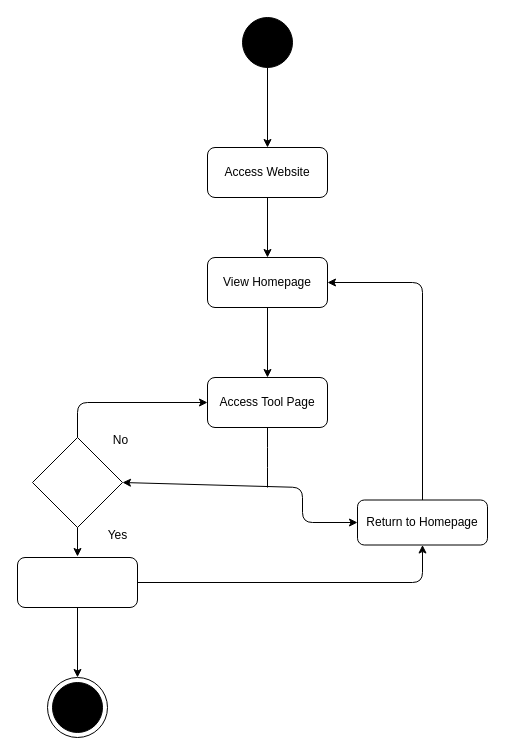
This 505x755 diagram has some shape labels left out. The box of each missing label's shape, as (x1, y1, x2, y2) in pixels:
Go to Checkout: (16, 556, 138, 608)
Is Tool Available?: (32, 436, 122, 528)
